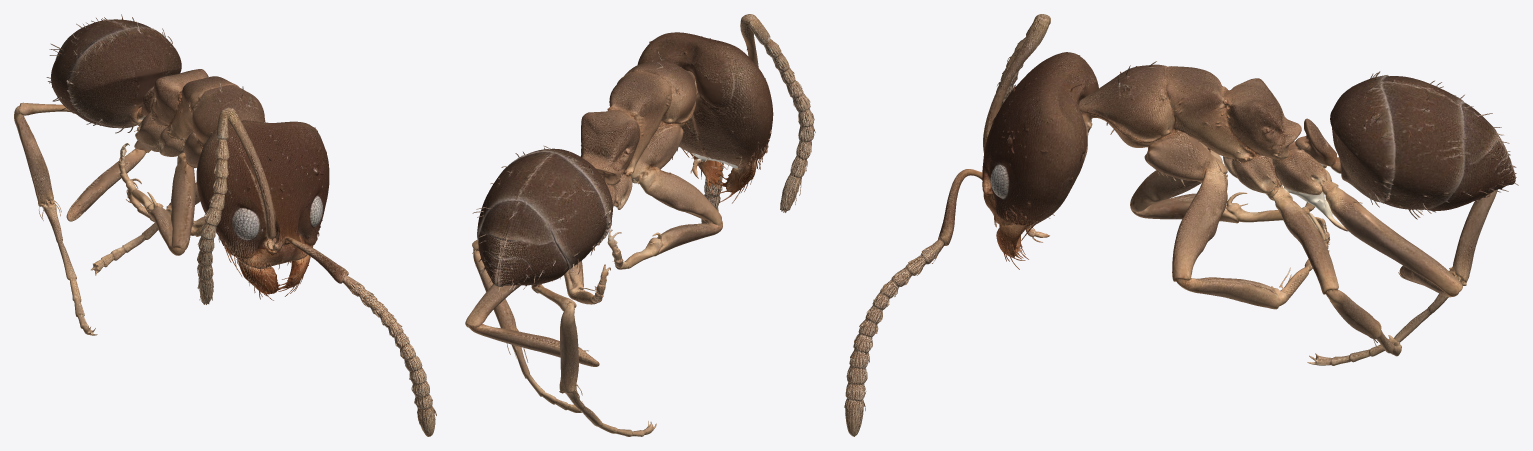
File: esp1.glb
3 renders of one model, left to right at view 1: azimuth 30°, elevation 25°; view 2: azimuth 150°, elevation 25°; view 3: azimuth 270°, elevation 25°, orthographic. The views are drawn at different scales.
Size of the model in its own units: 0.7155 by 1.12 by 1.89.
1 material, 1 textured.
